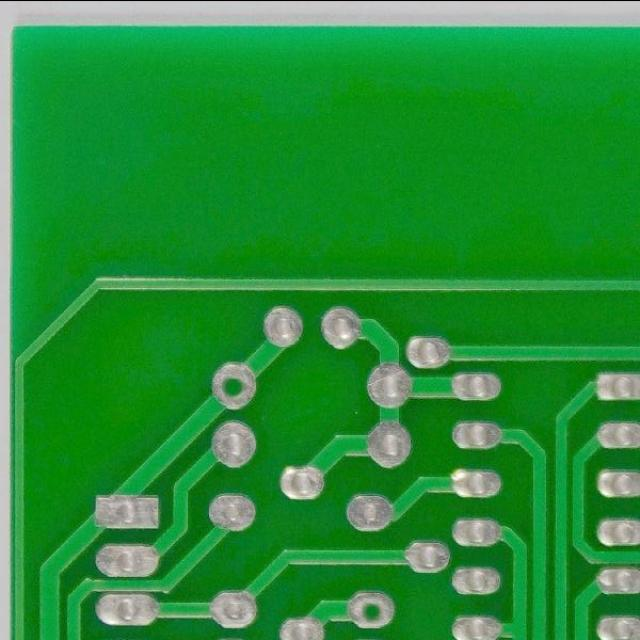Missing_Hole: (204, 359, 263, 414), (345, 590, 400, 632)
